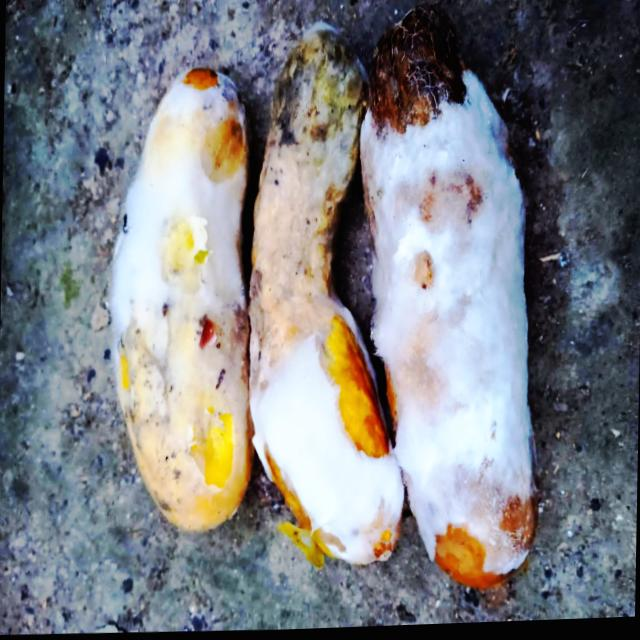Pythium-Fruit-Rot: (352, 65, 546, 590), (246, 15, 414, 573), (103, 64, 256, 541)
